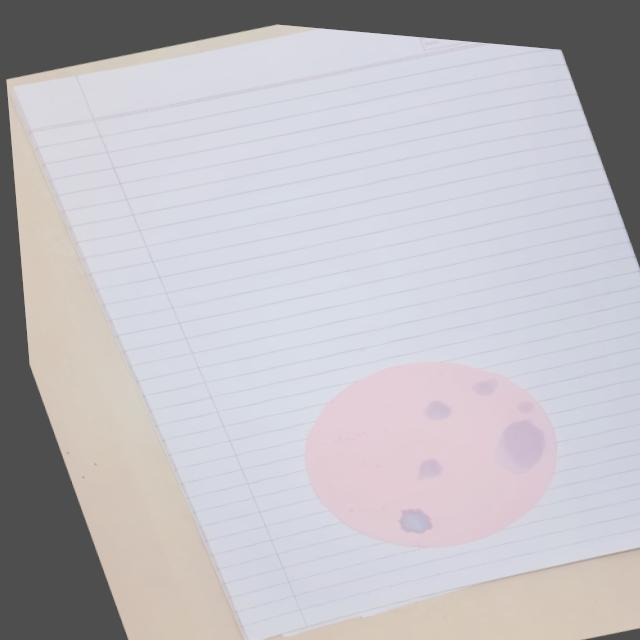BlueColor: (495, 418, 546, 473), (398, 508, 431, 534), (417, 458, 443, 479), (424, 400, 451, 420), (472, 378, 498, 396), (516, 401, 534, 413)
